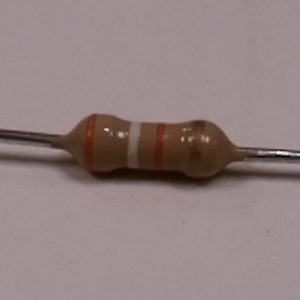gold_band: (185, 117, 208, 182)
orange_band: (81, 110, 99, 175), (149, 121, 170, 174)
white_band: (123, 119, 143, 173)
